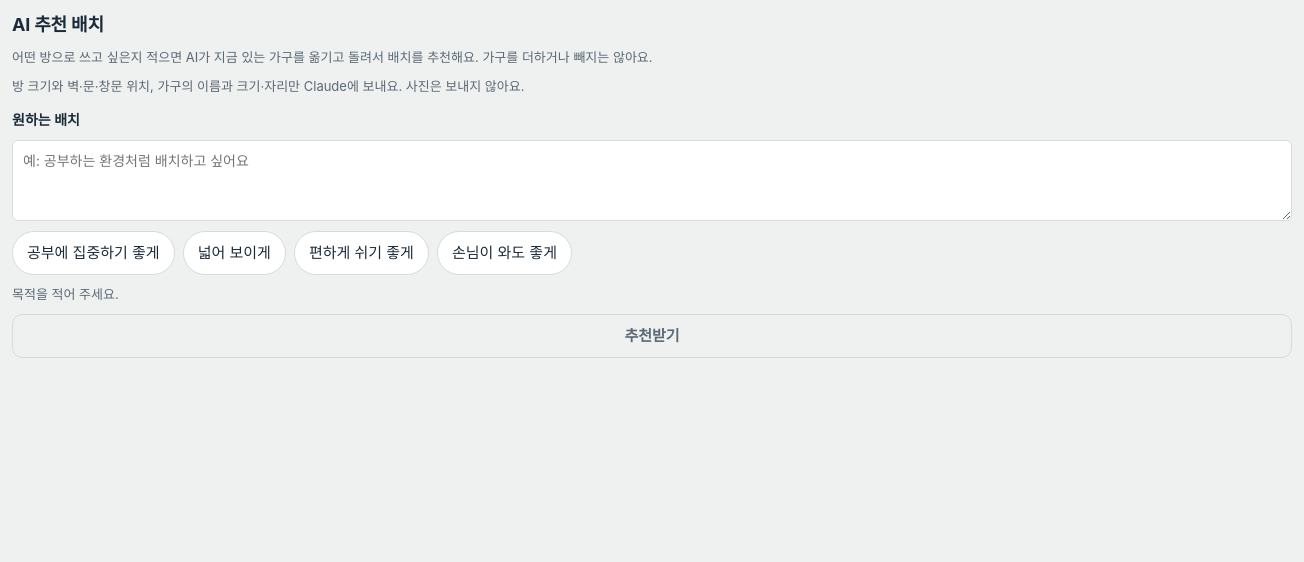
Scenario: SuggestPanel › 이대로 둘게요는 결과 카드만 닫는다
Type "공부하기 좋게" into the text box with test id "suggest-goal" at (652, 180), box [12, 140, 1292, 221]
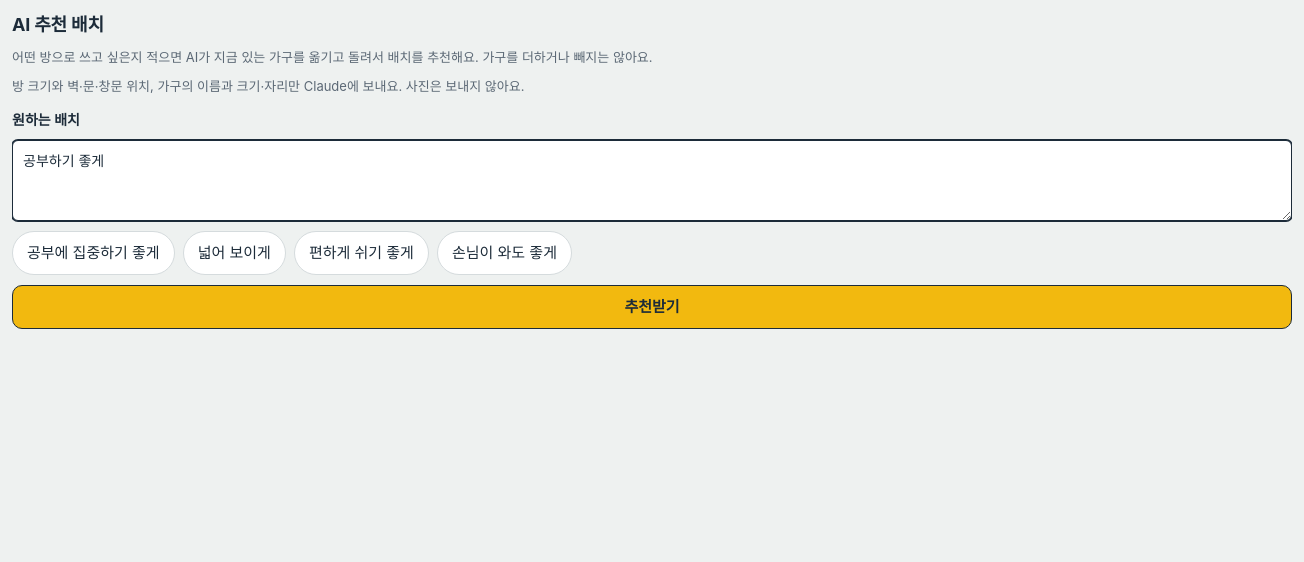
Now the button with test id "suggest-run" is enabled
Click the button with test id "suggest-run" at (652, 307), box [12, 285, 1292, 329]
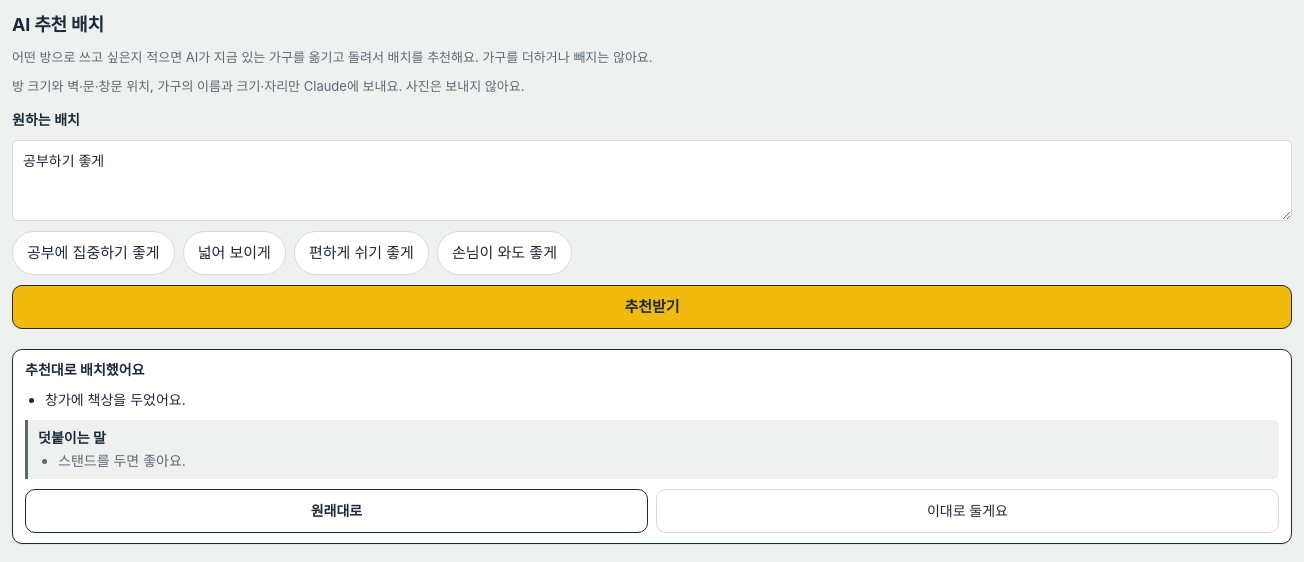
Now the element with test id "suggest-result" is shown, box [12, 349, 1292, 544]
Click the button with test id "suggest-keep" at (968, 511), box [656, 489, 1279, 533]
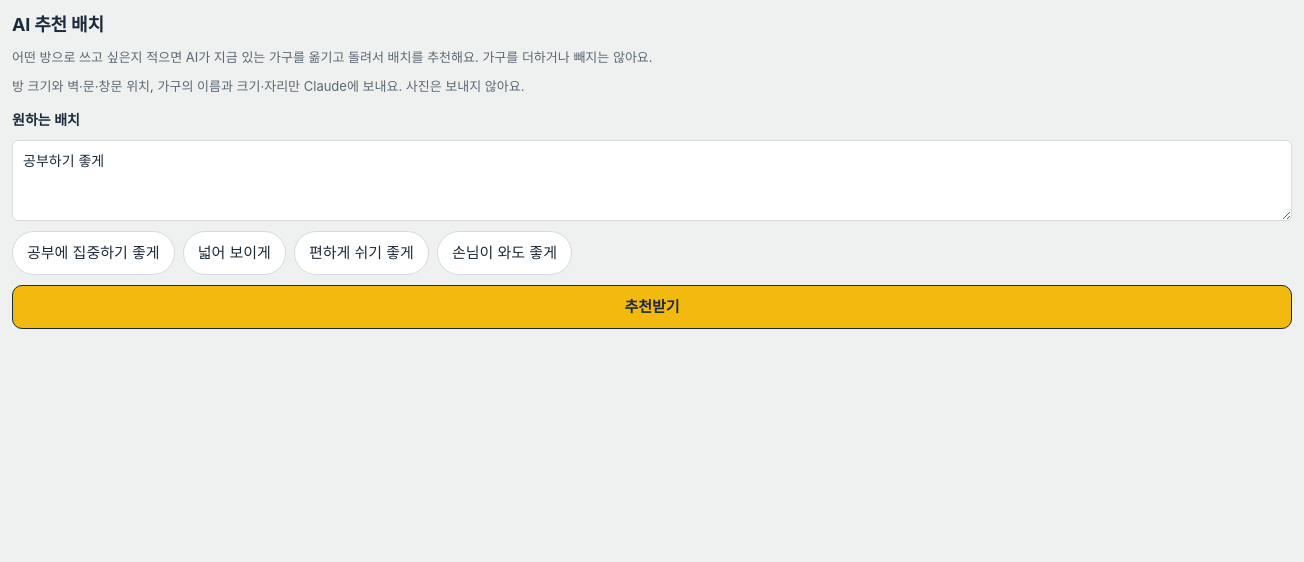
Now the element with test id "suggest-result" is gone
